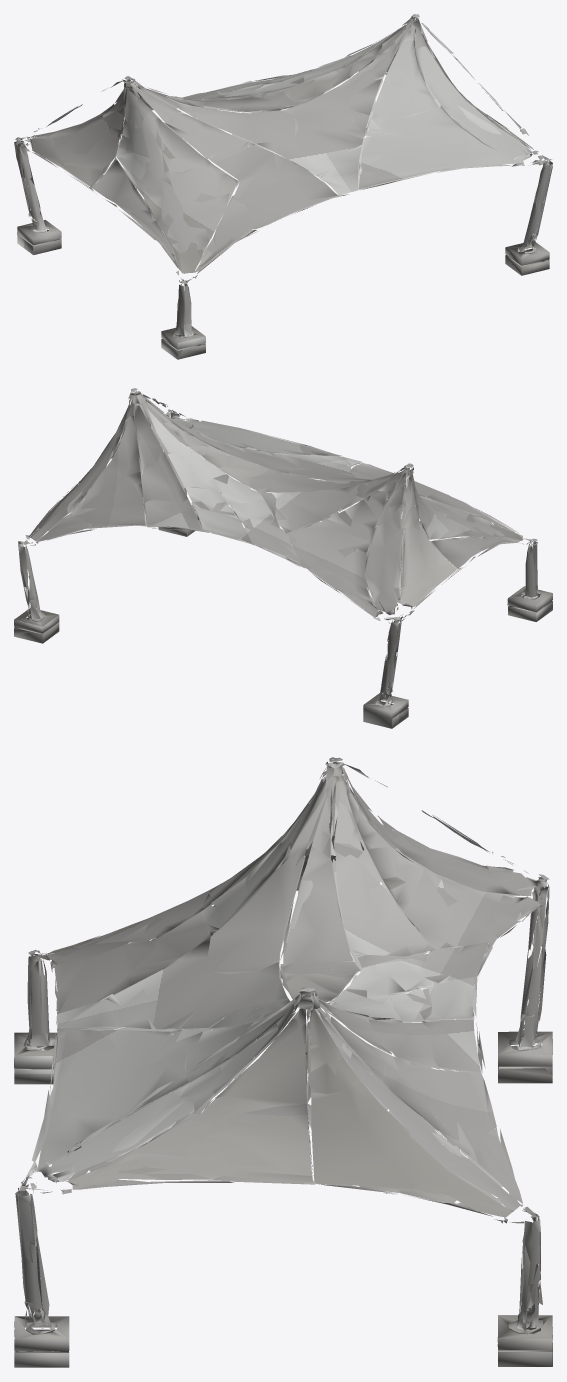
The model's file is sun_gate.glb.
3 renders of one model, top to bottom at view 1: azimuth 30°, elevation 25°; view 2: azimuth 150°, elevation 25°; view 3: azimuth 270°, elevation 25°, orthographic. The views are drawn at different scales.
Parts seen in each view (by area): view 1: LO.001; view 2: LO.001; view 3: LO.001.
Part boxes in pixels (box(x1,y1,x2,y2)): LO.001: box(14, 14, 552, 359); LO.001: box(14, 388, 552, 728); LO.001: box(14, 757, 552, 1367).
Bounding box in the file's own units: 21.92 × 11.01 × 15.72.
Materials: 1 (1 with a texture image).
